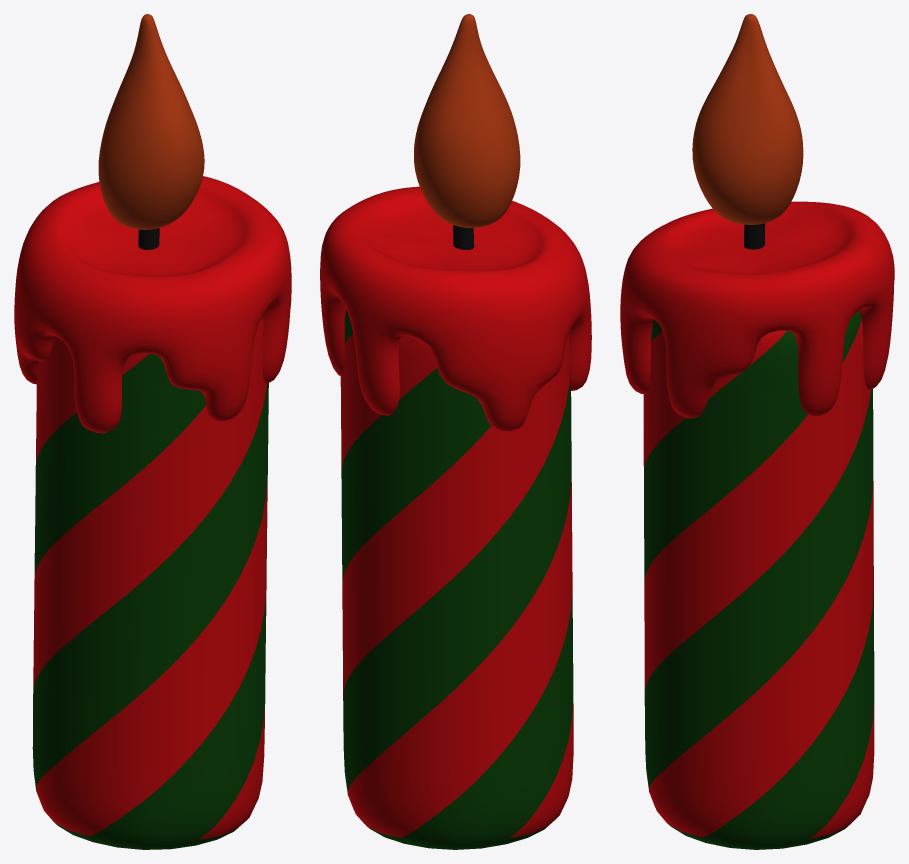
File: candle 1.obj
3 views of the same model, side by side, from view 1: azimuth 30°, elevation 25°; view 2: azimuth 150°, elevation 25°; view 3: azimuth 270°, elevation 25° (orthographic).
Visible parts, largest first — view 1: Circle.003_Circle.004, Cylinder.007_Cylinder.009, Vert.006_Vert.002; view 2: Circle.003_Circle.004, Cylinder.007_Cylinder.009, Vert.006_Vert.002; view 3: Circle.003_Circle.004, Cylinder.007_Cylinder.009, Vert.006_Vert.002, Cylinder.006_Cylinder.007.
Boxes of the visible parts, <box> form: Circle.003_Circle.004: <box>32,317,268,849</box>; Cylinder.007_Cylinder.009: <box>14,176,291,433</box>; Vert.006_Vert.002: <box>98,14,204,229</box>; Circle.003_Circle.004: <box>340,310,573,849</box>; Cylinder.007_Cylinder.009: <box>320,186,591,431</box>; Vert.006_Vert.002: <box>414,14,520,227</box>; Circle.003_Circle.004: <box>643,311,874,849</box>; Cylinder.007_Cylinder.009: <box>620,201,894,418</box>; Vert.006_Vert.002: <box>692,14,803,224</box>; Cylinder.006_Cylinder.007: <box>744,223,765,249</box>.
Bounding box in the file's own units: 0.8989 × 2.94 × 0.9211.
